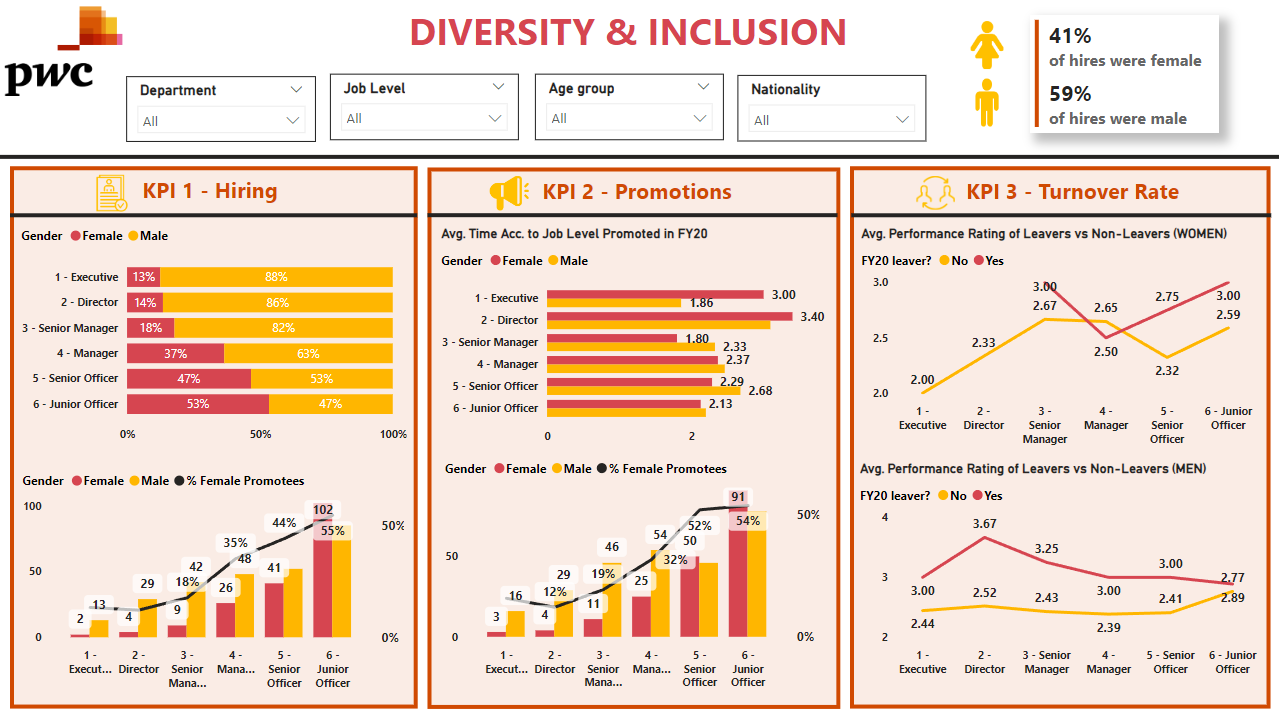

The page's visual inventory and layout, read from the dashboard file:
{"tool":"powerbi","page":{"name":"Page 1","canvas":[1280,720],"ordinal":0},"visuals":[{"type":"shape","box":[850,166.7,420.5,542.3],"z":0},{"type":"shape","box":[10.3,166.7,407.7,542.3],"z":1000},{"type":"shape","box":[427.1,167.1,412.9,541.4],"z":2000},{"type":"clusteredBarChart","title":"Avg. Time Acc. to Job Level Promoted in FY20","fields":{"Category":["Pharma Group AG.Job Level after FY20 promotions"],"Y":["Avg(Pharma Group AG.Time in Job Level @01.07.2020)"],"Series":["Pharma Group AG.Gender"]},"box":[435.7,225.7,398.6,227.1],"z":3000},{"type":"textbox","box":[404.3,0,463.8,73.9],"z":4000},{"type":"shape","box":[0,145,1280,23.8],"z":5000},{"type":"image","box":[0,0,127.5,102.9],"z":6000},{"type":"slicer","fields":{"Values":["Pharma Group AG.Last Department in FY20"]},"box":[125.8,75.7,189.9,65.2],"z":7000},{"type":"slicer","fields":{"Values":["Pharma Group AG.Broad region group: nationality 1"]},"box":[737.7,74.5,188.4,66.7],"z":8000},{"type":"slicer","fields":{"Values":["Pharma Group AG.Age group"]},"box":[534.5,74.2,188.4,66.7],"z":9000},{"type":"slicer","fields":{"Values":["Pharma Group AG.Job Level after FY20 promotions"]},"box":[330.1,74.2,188.4,66.7],"z":10000},{"type":"hundredPercentStackedBarChart","fields":{"Y":["CountNonNull(Pharma Group AG.Employee ID)"],"Category":["Pharma Group AG.Job Level after FY20 promotions"],"Series":["Pharma Group AG.Gender"]},"box":[15.7,215.7,395.7,235.7],"z":11000},{"type":"multiRowCard","fields":{"Values":["Pharma Group AG.% Female","Pharma Group AG.% Male"]},"box":[1030.4,14.5,188.4,117.4],"z":12000},{"type":"lineChart","title":"Avg. Performance Rating of Leavers vs Non-Leavers (WOMEN)","fields":{"Y":["Avg(Pharma Group AG.FY19 Performance Rating)"],"Category":["Pharma Group AG.Job Level after FY20 promotions"],"Series":["Pharma Group AG.FY20 leaver?"]},"box":[855.7,225.7,405.7,227.1],"z":13000},{"type":"lineChart","title":"Avg. Performance Rating of Leavers vs Non-Leavers (MEN)","fields":{"Y":["Avg(Pharma Group AG.FY19 Performance Rating)"],"Category":["Pharma Group AG.Job Level after FY20 promotions"],"Series":["Pharma Group AG.FY20 leaver?"]},"box":[855.1,460.9,411.6,236.2],"z":14000},{"type":"lineClusteredColumnComboChart","fields":{"Y":["CountNonNull(Pharma Group AG.Employee ID)"],"Series":["Pharma Group AG.Gender"],"Category":["Pharma Group AG.Job Level after FY21 promotions"],"Y2":["Pharma Group AG.% Female"]},"box":[440.2,448.8,384,248.2],"z":15000},{"type":"textbox","box":[137.1,170,170,44.3],"z":16000},{"type":"textbox","box":[537.1,171.4,212.9,44.3],"z":17000},{"type":"textbox","box":[961.4,171.4,232.9,45.7],"z":18000},{"type":"shape","box":[10.1,208.7,407.2,13],"z":19000},{"type":"shape","box":[427.1,208.6,410,12.9],"z":20000},{"type":"shape","box":[850.7,208.7,420.3,13],"z":21000},{"type":"lineClusteredColumnComboChart","fields":{"Y":["CountNonNull(Pharma Group AG.Employee ID)"],"Series":["Pharma Group AG.Gender"],"Category":["Pharma Group AG.Job Level after FY20 promotions"],"Y2":["Pharma Group AG.% Female"]},"box":[17.4,460.9,391.3,236.2],"z":22000},{"type":"image","box":[956.1,73.9,62.3,58],"z":23000},{"type":"image","box":[956.1,15.9,62.3,58],"z":24000},{"type":"image","box":[89.9,169.6,43.5,46.4],"z":25000},{"type":"image","box":[482.9,171.4,54.3,44.3],"z":26000},{"type":"image","box":[910,171.2,51.2,43.8],"z":27000}]}

Visuals, with their boxes in screenshot pixels (x1, y1, x2, y2), scaled from the page's 1280x720 canvas onto the 1279x719 screenshot:
shape: 849:166:1270:708
shape: 10:166:418:708
shape: 427:167:839:708
"Avg. Time Acc. to Job Level Promoted in FY20" clusteredBarChart: 435:225:834:452
textbox: 404:0:867:74
shape: 0:145:1278:169
image: 0:0:127:103
slicer - Pharma Group AG.Last Department in FY20: 126:76:315:141
slicer - Pharma Group AG.Broad region group: nationality 1: 737:74:925:141
slicer - Pharma Group AG.Age group: 534:74:722:141
slicer - Pharma Group AG.Job Level after FY20 promotions: 330:74:518:141
hundredPercentStackedBarChart - CountNonNull(Pharma Group AG.Employee ID) x Pharma Group AG.Job Level after FY20 promotions: 16:215:411:451
multiRowCard - Pharma Group AG.% Female x Pharma Group AG.% Male: 1030:14:1218:132
"Avg. Performance Rating of Leavers vs Non-Leavers (WOMEN)" lineChart: 855:225:1260:452
"Avg. Performance Rating of Leavers vs Non-Leavers (MEN)" lineChart: 854:460:1266:696
lineClusteredColumnComboChart - CountNonNull(Pharma Group AG.Employee ID) x Pharma Group AG.Gender: 440:448:824:696
textbox: 137:170:307:214
textbox: 537:171:749:215
textbox: 961:171:1193:217
shape: 10:208:417:221
shape: 427:208:836:221
shape: 850:208:1270:221
lineClusteredColumnComboChart - CountNonNull(Pharma Group AG.Employee ID) x Pharma Group AG.Gender: 17:460:408:696
image: 955:74:1018:132
image: 955:16:1018:74
image: 90:169:133:216
image: 483:171:537:215
image: 909:171:960:215
